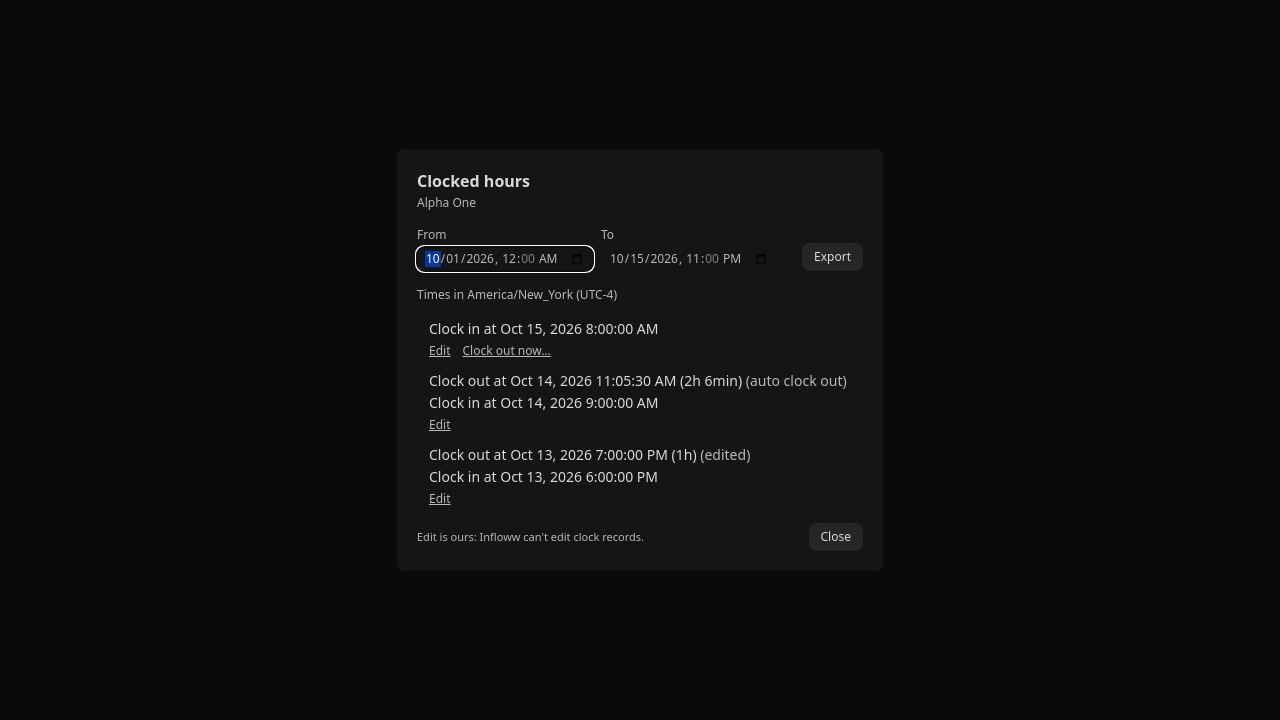
Test: ClockRecordsModal › a 409 on Save shows the Relay's text inline and keeps the inputs
Check: the text "Clock in at Oct 14, 2026 9:00:00 AM" is shown, box [429,393,658,412]
Click the button "Edit" below "Clock in at Oct 14, 2026 9:00:00 AM".
click(440, 425)  # box [429,417,450,433]
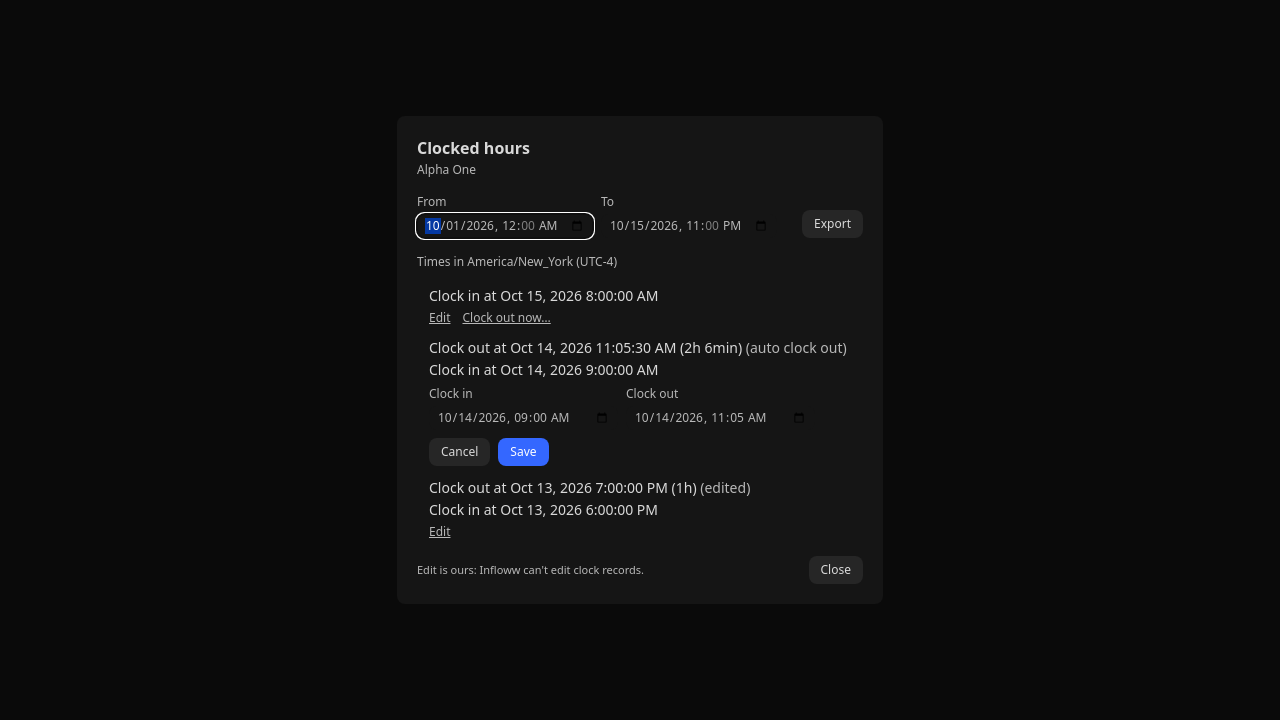
Replace the text in the field labelled "Clock out" with "2026-10-14T12:00" at (720, 418), box [626,406,815,430]
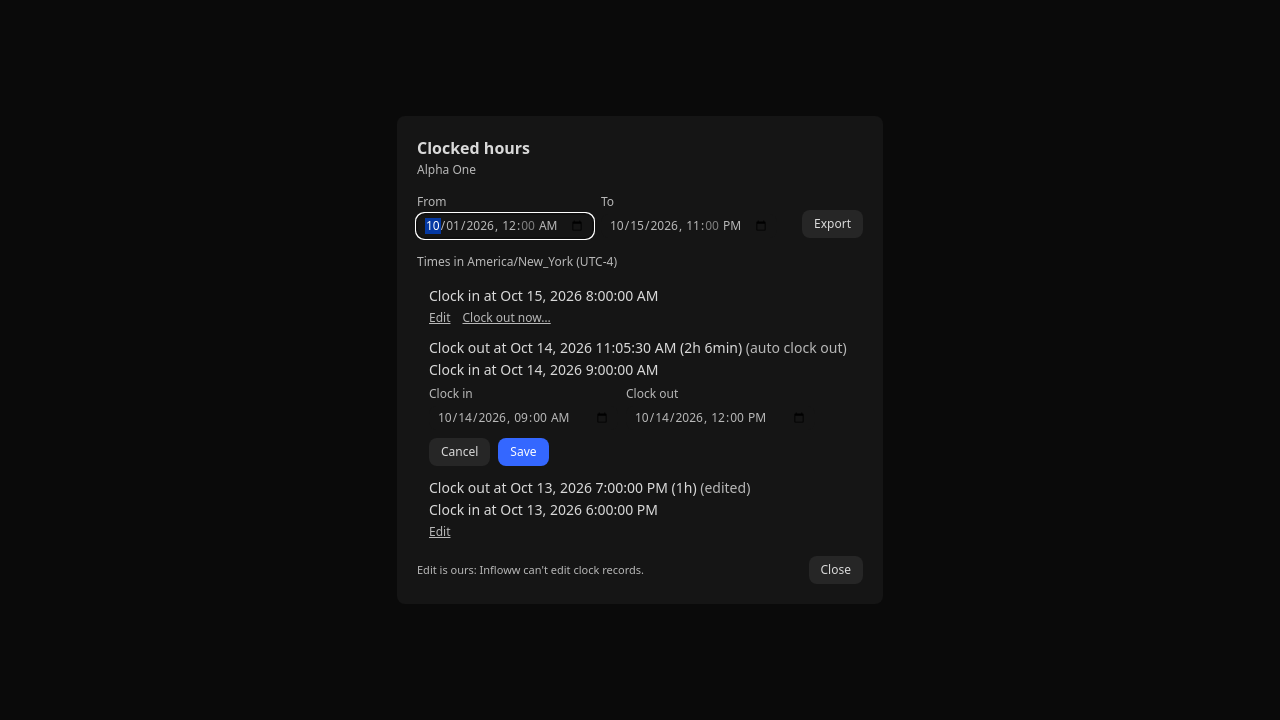
Click the button "Save".
click(524, 452)  # box [498,438,549,466]
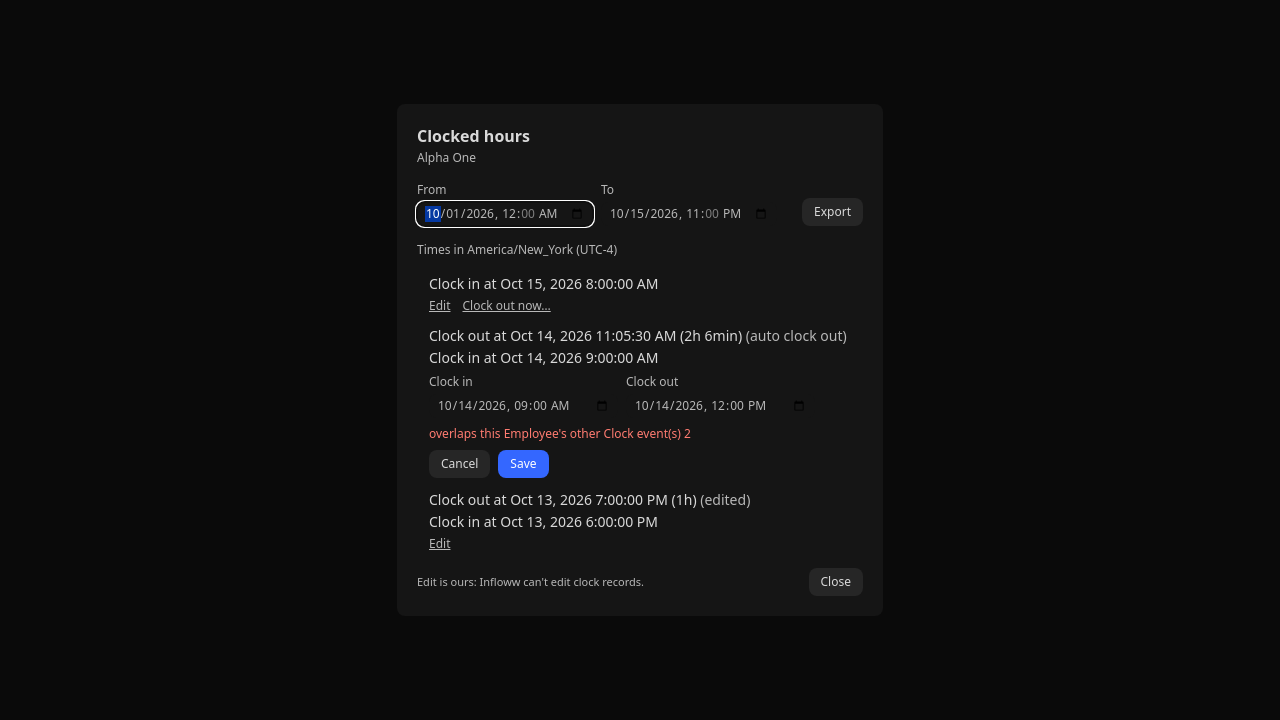
Check: the button "Save" is enabled, box [498,450,549,478]
Check: the message reads "overlaps this Employee's other Clock event(s) 2", box [429,425,691,442]
